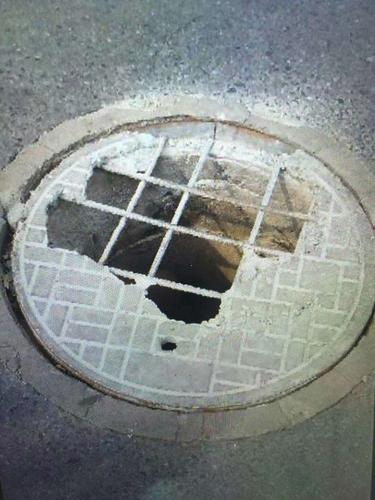broke: (7, 72, 372, 434)
